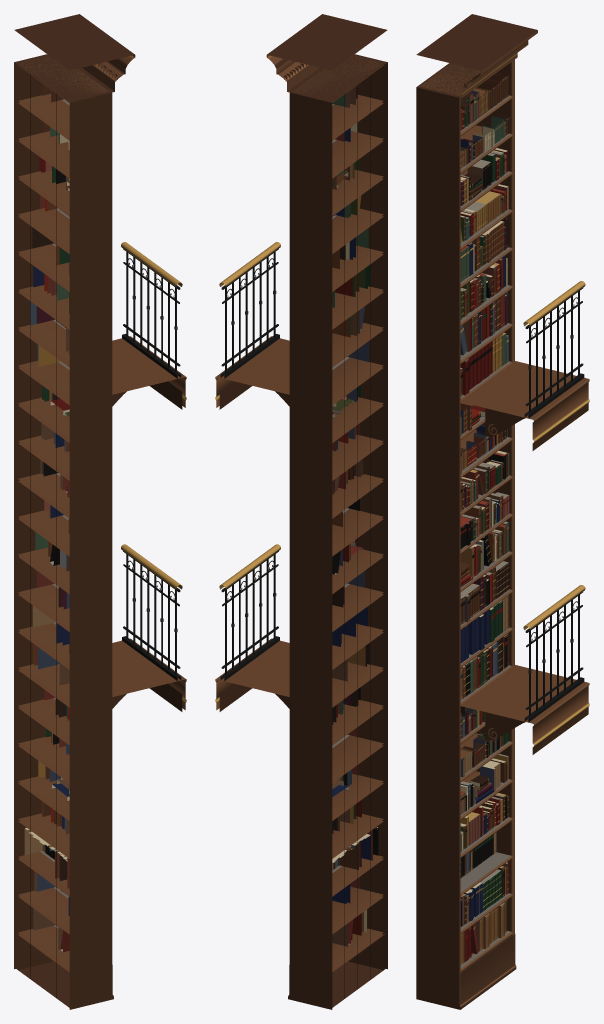
Rendered from library_wall.glb.
3 renders of one model, left to right at view 1: azimuth 30°, elevation 25°; view 2: azimuth 150°, elevation 25°; view 3: azimuth 330°, elevation 25°, orthographic.
Parts seen in each view (by area): view 1: regalwand; view 2: regalwand; view 3: regalwand.
Boxes of the visible parts, box(x1,y1,x2,y2) form: regalwand: box(14, 14, 186, 1009); regalwand: box(215, 14, 387, 1009); regalwand: box(416, 14, 589, 1009).
Bounding box in the file's own units: 1.22 × 9.32 × 1.
